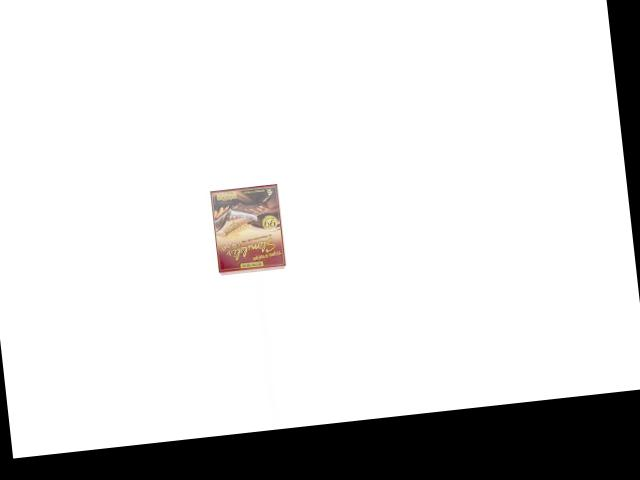chocolate: (210, 183, 286, 276)
